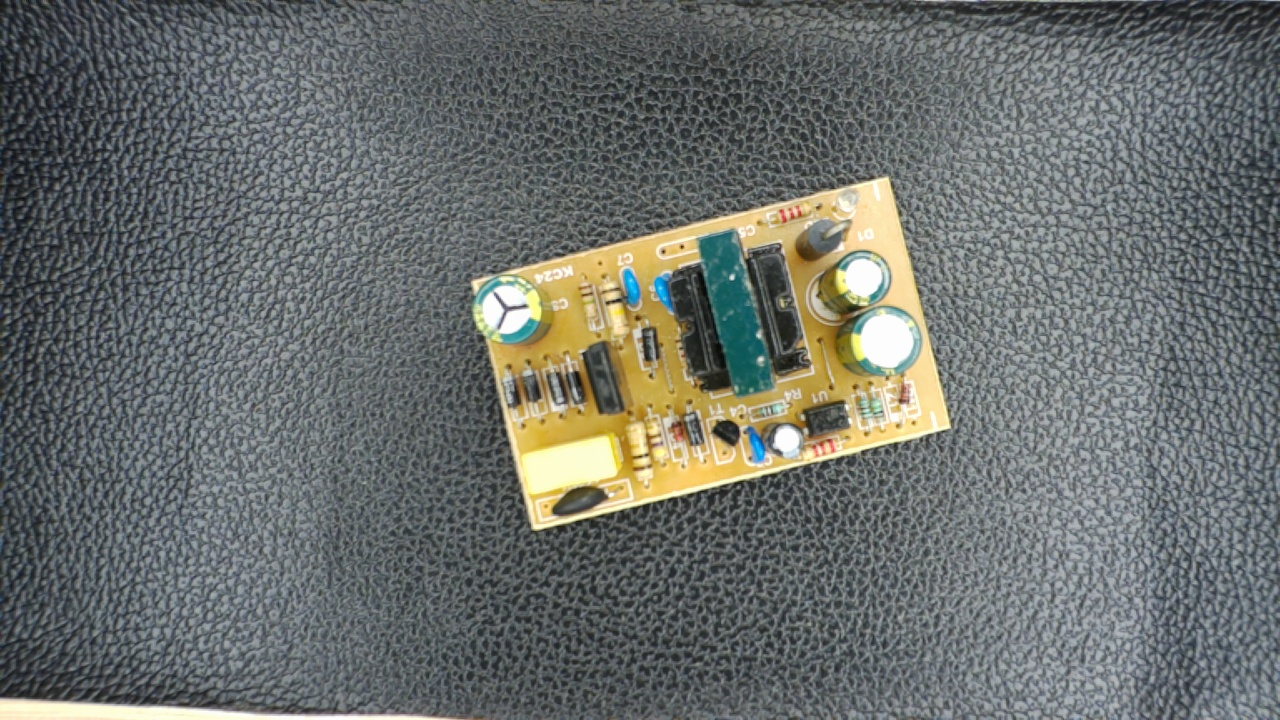fuse: (539, 485, 633, 521)
hv_capacitor: (467, 276, 560, 344)
optocoupler: (797, 395, 860, 441)
